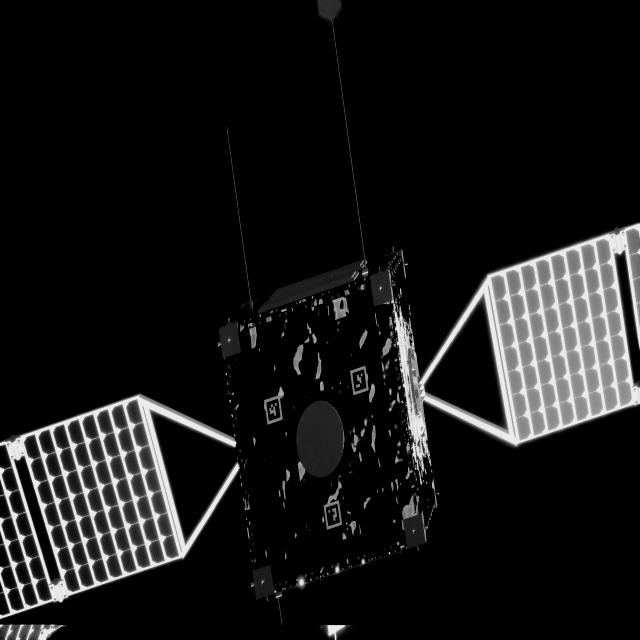satellite: (0, 224, 640, 621)
